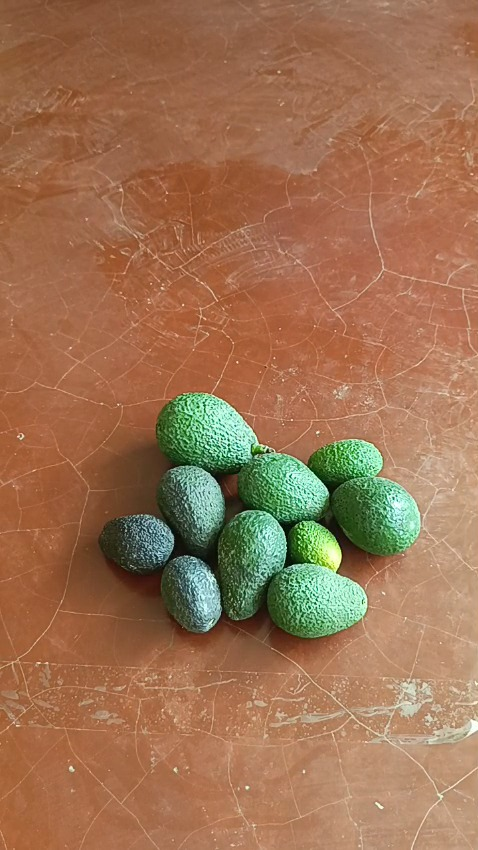Primera: (155, 392, 256, 473)
Segunda: (265, 563, 366, 638), (216, 509, 286, 613), (329, 476, 420, 555), (237, 452, 331, 526), (156, 463, 227, 556)
Tercera: (158, 554, 222, 634), (98, 514, 175, 576), (306, 438, 383, 491), (286, 519, 341, 572)
